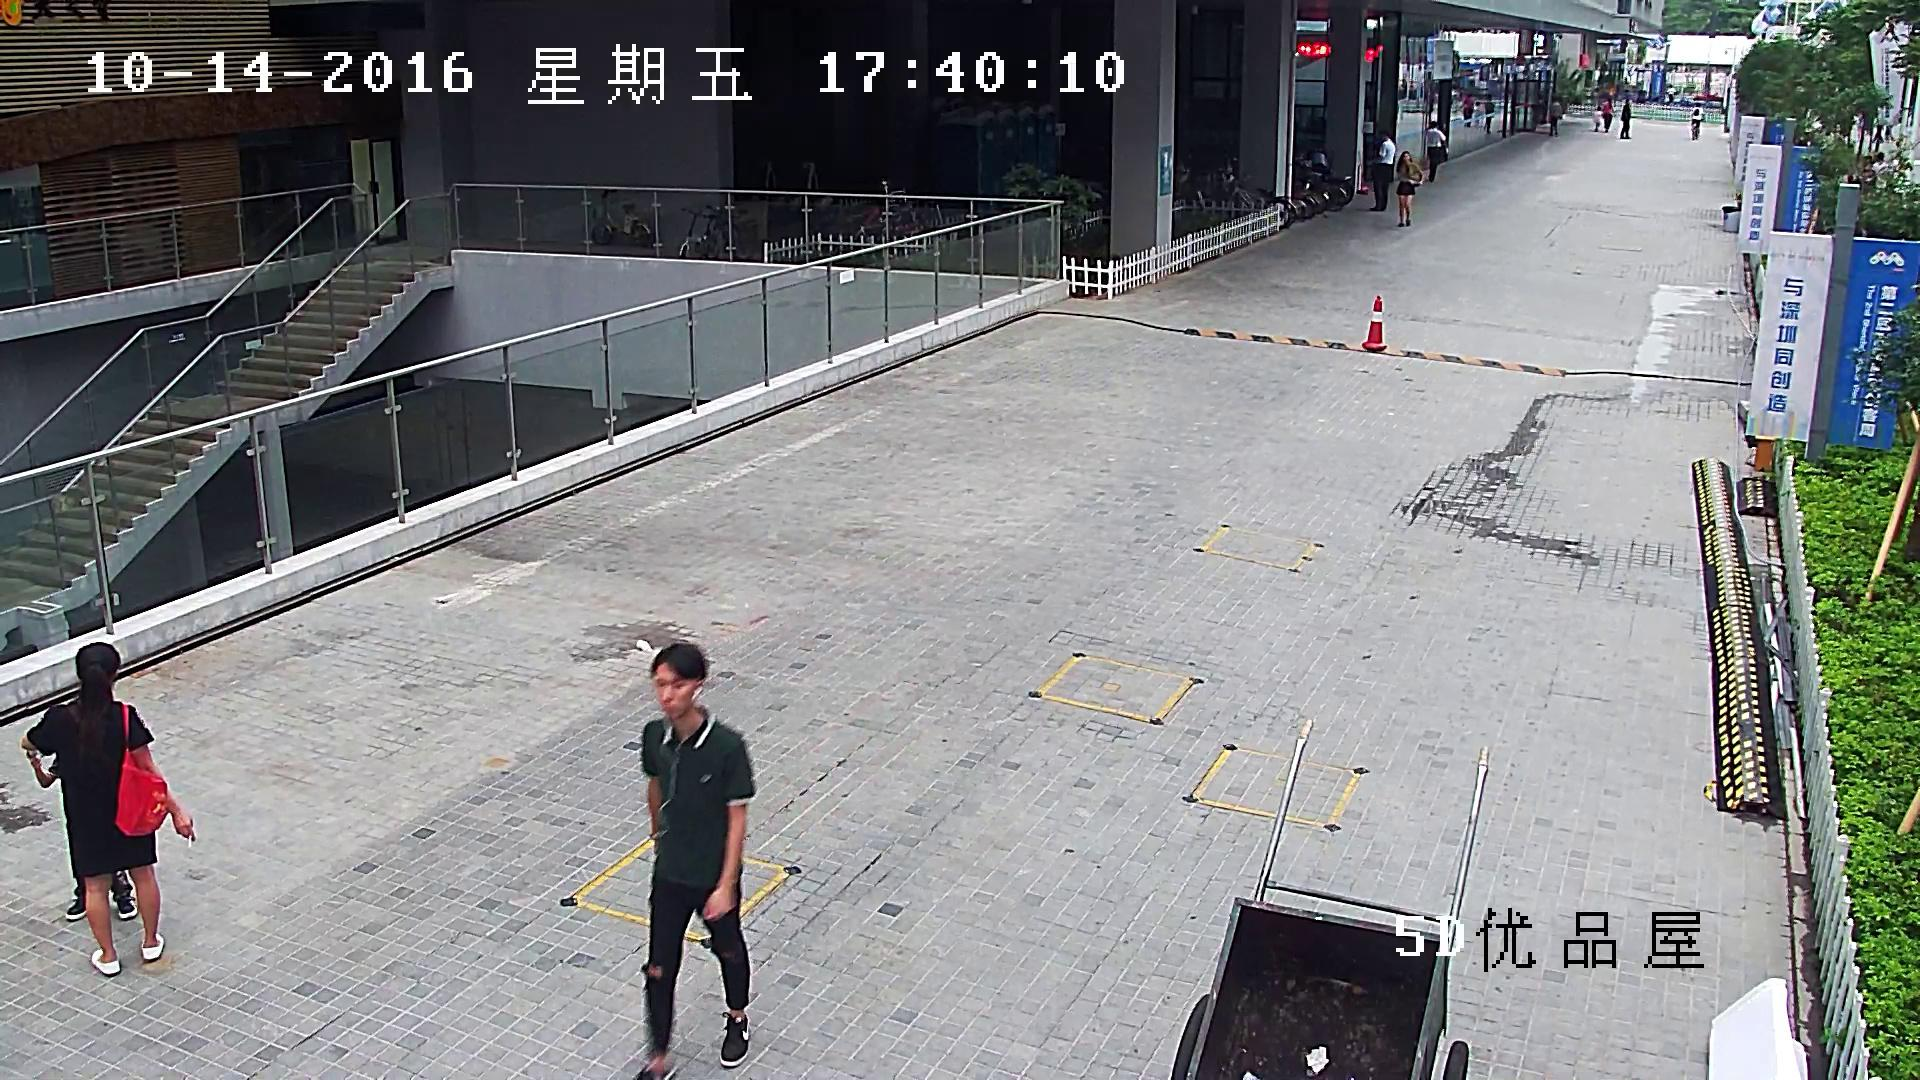person: (21, 643, 196, 978), (633, 644, 753, 1080), (1396, 150, 1423, 227), (1370, 132, 1395, 210), (1425, 120, 1448, 184), (1872, 152, 1889, 189), (1691, 102, 1705, 141), (1548, 96, 1562, 135), (1860, 159, 1876, 190), (1601, 96, 1614, 132), (1620, 99, 1631, 139), (1484, 93, 1494, 135), (1461, 93, 1473, 127), (1895, 115, 1905, 149), (1691, 102, 1703, 130), (1592, 105, 1602, 132), (1884, 113, 1894, 142), (1474, 100, 1482, 128)
